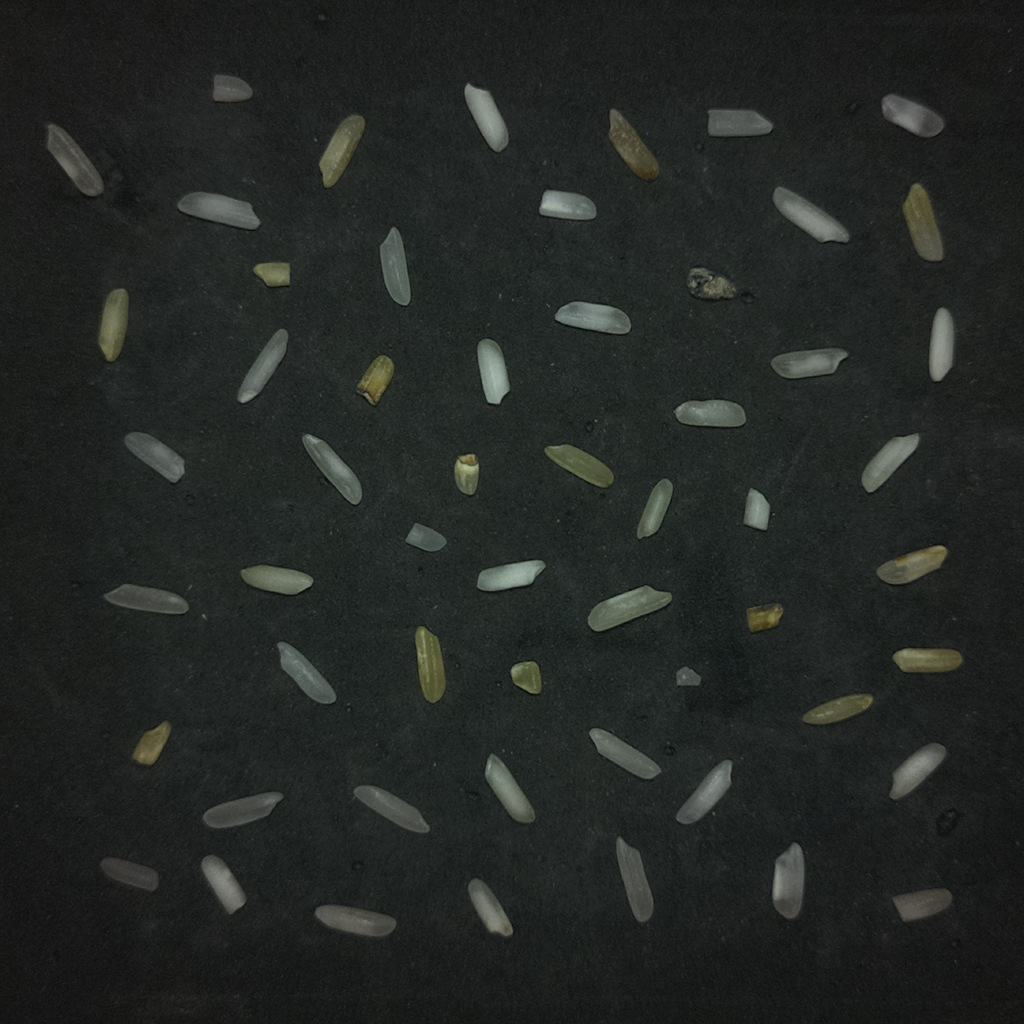broken: (902, 183, 944, 262), (890, 742, 947, 799), (124, 432, 184, 482), (881, 94, 943, 137), (468, 878, 512, 937), (893, 888, 952, 922), (100, 857, 158, 891), (929, 307, 954, 381), (707, 109, 772, 137), (539, 190, 596, 220), (405, 522, 445, 552), (212, 74, 252, 102), (510, 661, 542, 695), (676, 666, 701, 685)
chalky: (773, 187, 849, 242), (861, 433, 920, 493), (485, 755, 535, 823), (464, 83, 508, 152), (201, 855, 246, 914), (555, 300, 630, 334), (240, 564, 313, 595), (477, 559, 545, 591), (477, 338, 509, 404), (743, 488, 770, 530)
damaged: (609, 109, 659, 180), (356, 356, 394, 405), (454, 453, 480, 496), (747, 603, 783, 632)
discolored: (319, 114, 365, 188), (544, 444, 613, 487), (876, 545, 947, 584), (415, 626, 445, 702), (98, 288, 128, 361), (802, 694, 873, 724), (131, 721, 170, 765), (892, 648, 962, 672), (253, 262, 289, 286)
foreign: (687, 267, 735, 300)
whole: (302, 434, 362, 504), (47, 124, 103, 196), (587, 585, 672, 631), (236, 329, 287, 403), (589, 728, 660, 779), (354, 785, 429, 833), (277, 642, 336, 703), (677, 759, 732, 824), (617, 836, 653, 922), (177, 192, 260, 229), (202, 792, 282, 828), (314, 904, 396, 937), (104, 584, 188, 614), (772, 843, 804, 919), (379, 227, 410, 305), (771, 347, 847, 378), (636, 478, 673, 538), (674, 399, 745, 427)
